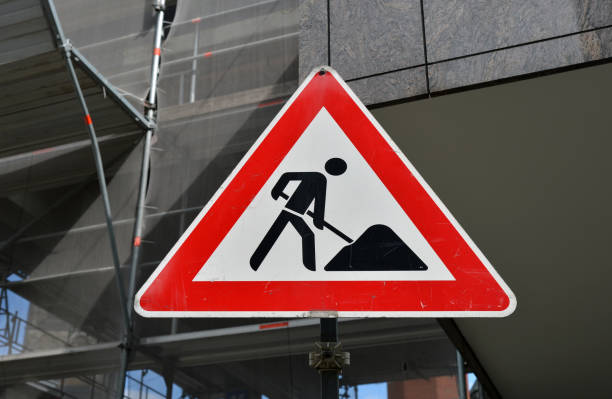yol_calismasi_levha: (137, 67, 524, 321)
